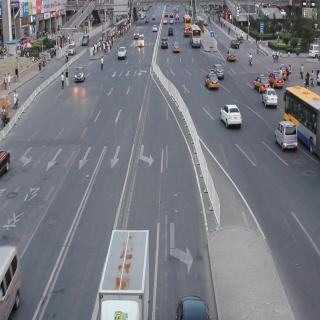BigCar: (97, 216, 158, 320), (284, 79, 320, 152)
Car: (1, 225, 20, 312), (266, 120, 302, 156), (174, 288, 210, 320), (213, 97, 244, 133), (221, 35, 239, 76), (209, 54, 229, 84), (69, 60, 89, 89), (261, 88, 282, 112), (200, 68, 218, 93), (188, 22, 201, 48), (228, 29, 243, 50), (170, 35, 181, 62), (119, 41, 128, 62), (132, 23, 140, 45), (162, 34, 171, 52), (139, 32, 146, 52), (152, 20, 160, 34)
